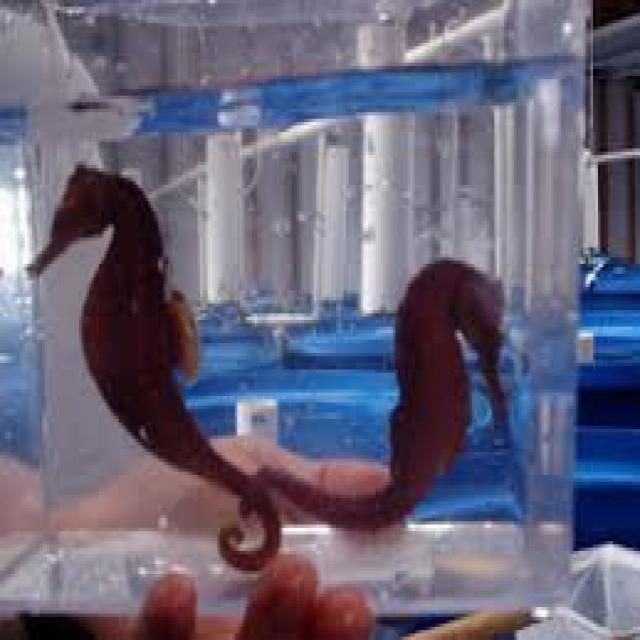SeaHorse: (25, 165, 282, 574), (260, 260, 504, 528)
